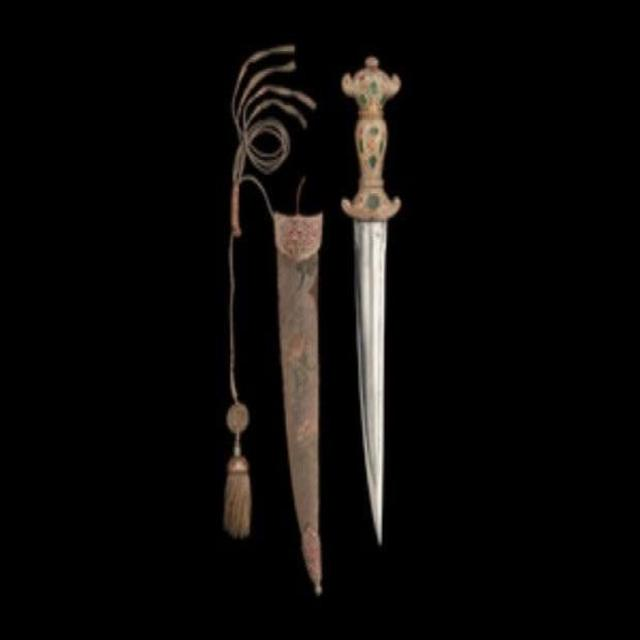Gun: (350, 53, 415, 549)
